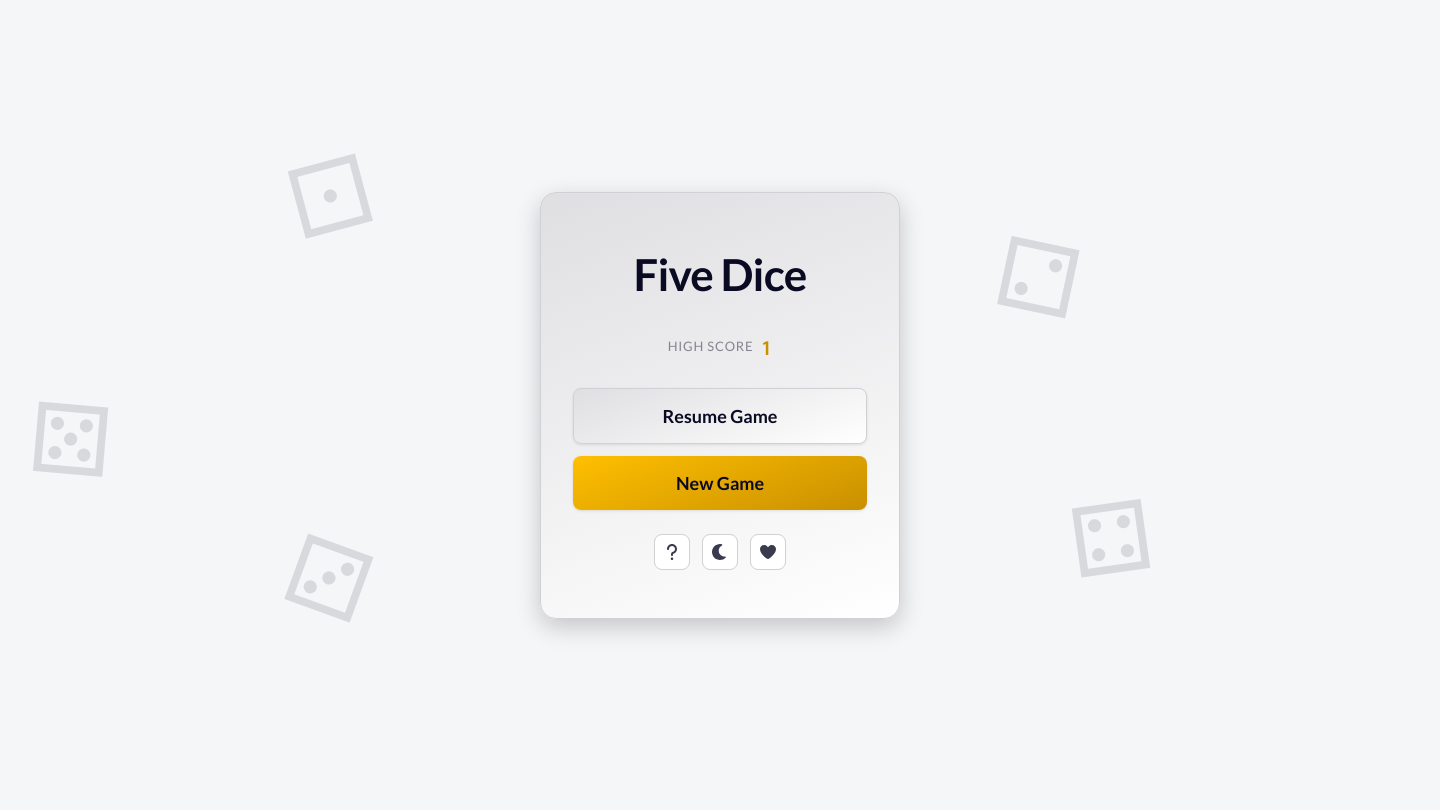
Scenario: GameOver › game over screen shows updated high score when beaten
Click the button "Resume Game": (720, 416) [573,388,867,444]
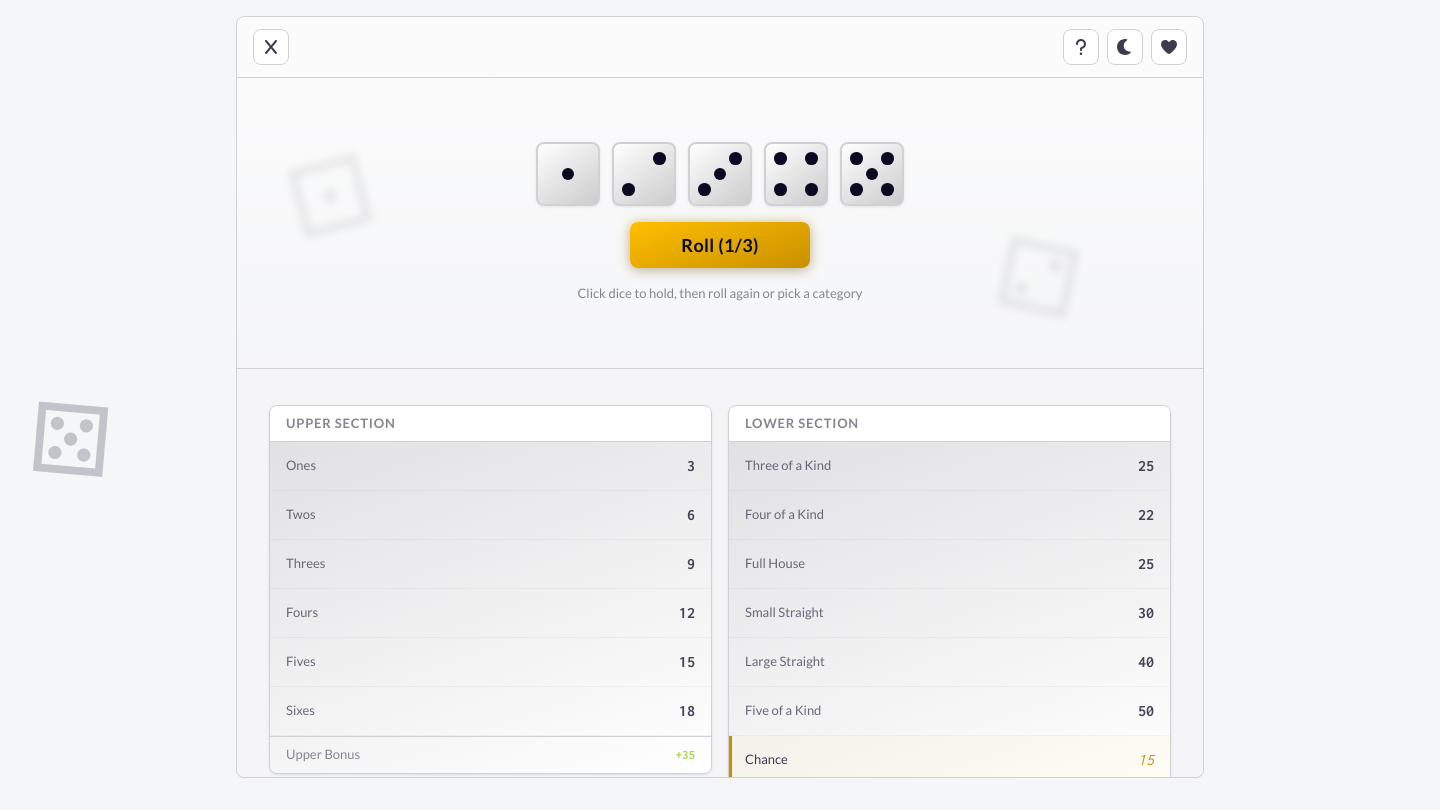
Click the button labelled "Chance 15": (766, 759) [729,736,1170,784]
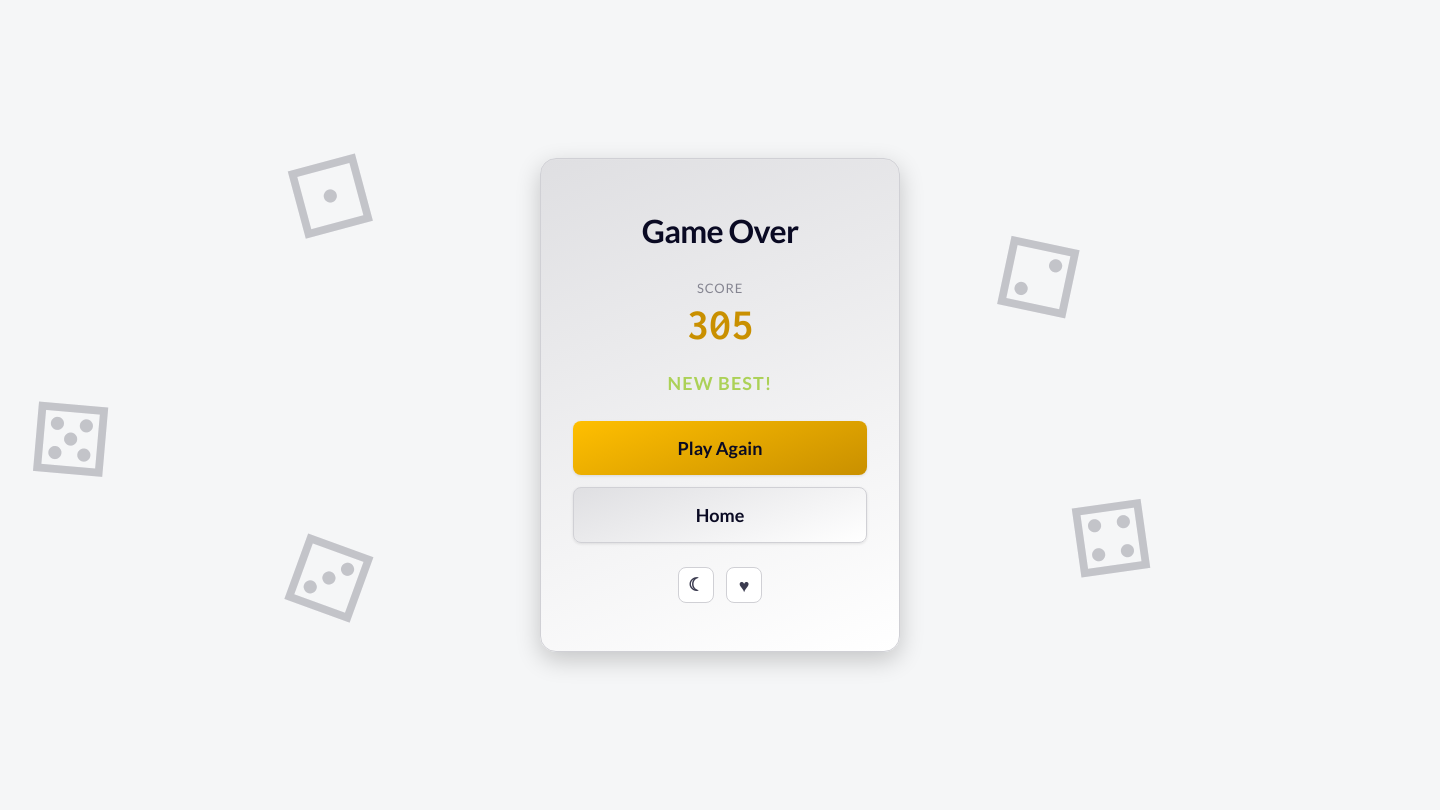
Expected: the text "New best!" is shown, [668,370,772,397]
